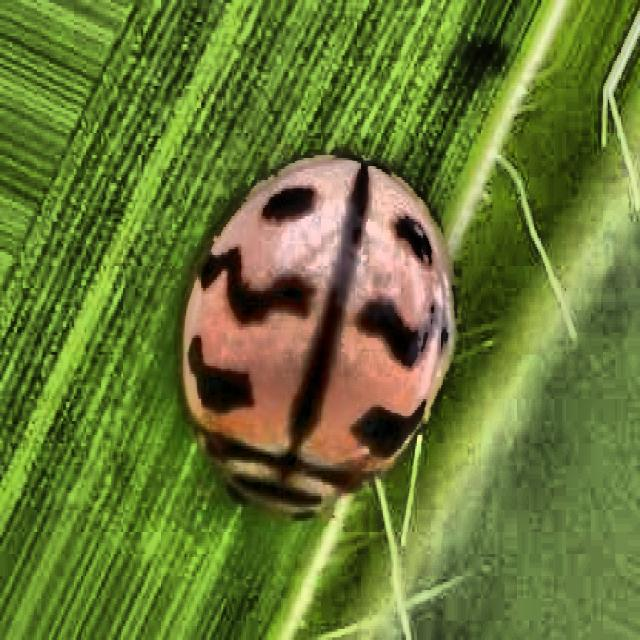Asian-Lady-beetle: (137, 126, 481, 548)
